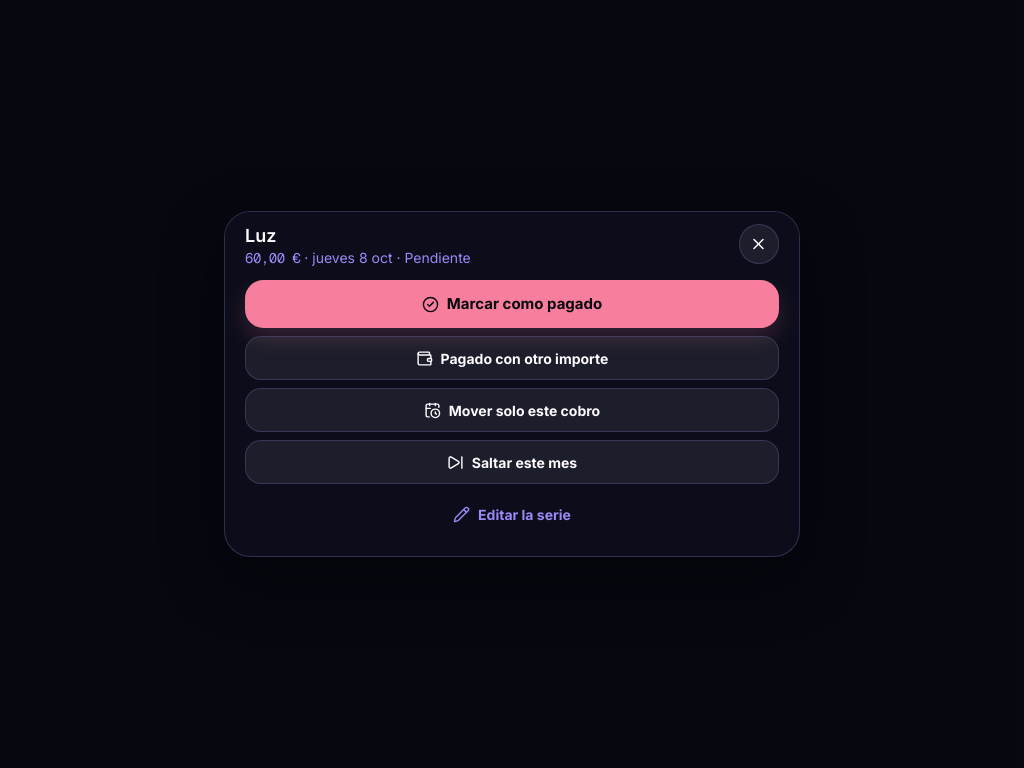
Scenario: OccurrenceActionSheet paying another amount › suggests the average of the last payments
Click the button "Pagado con otro importe".
click(512, 358)  # box left=245, top=336, right=779, bottom=380
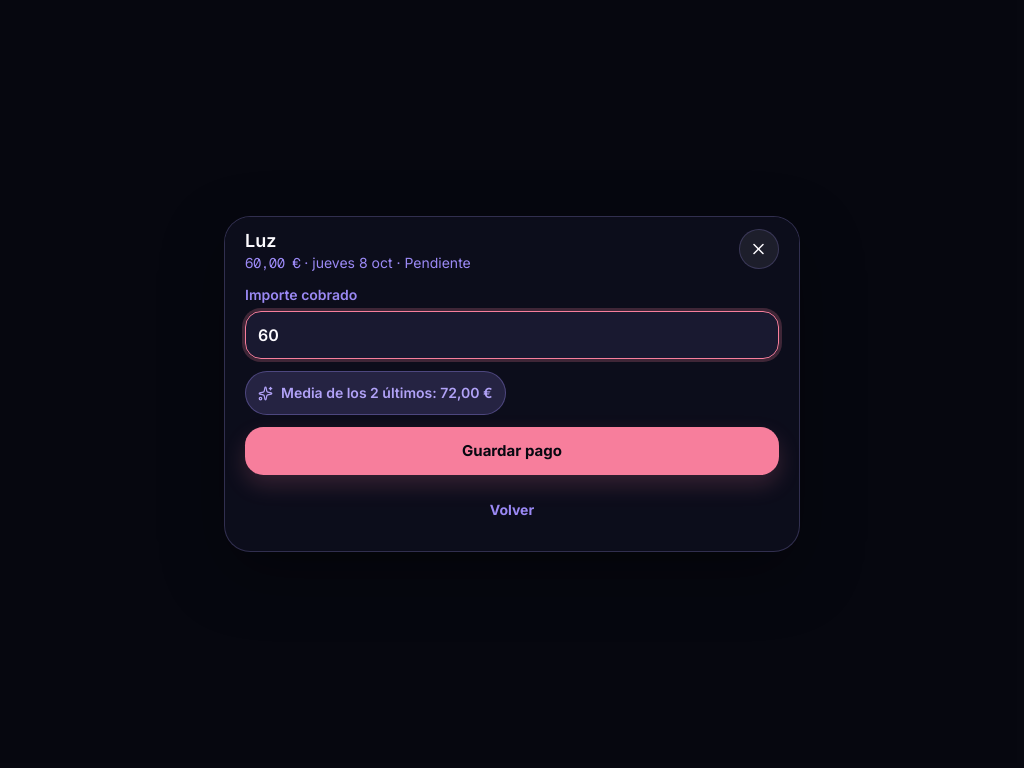
Click the button "Media de los 2 últimos: 72,00 €".
click(375, 393)  # box left=245, top=371, right=506, bottom=415
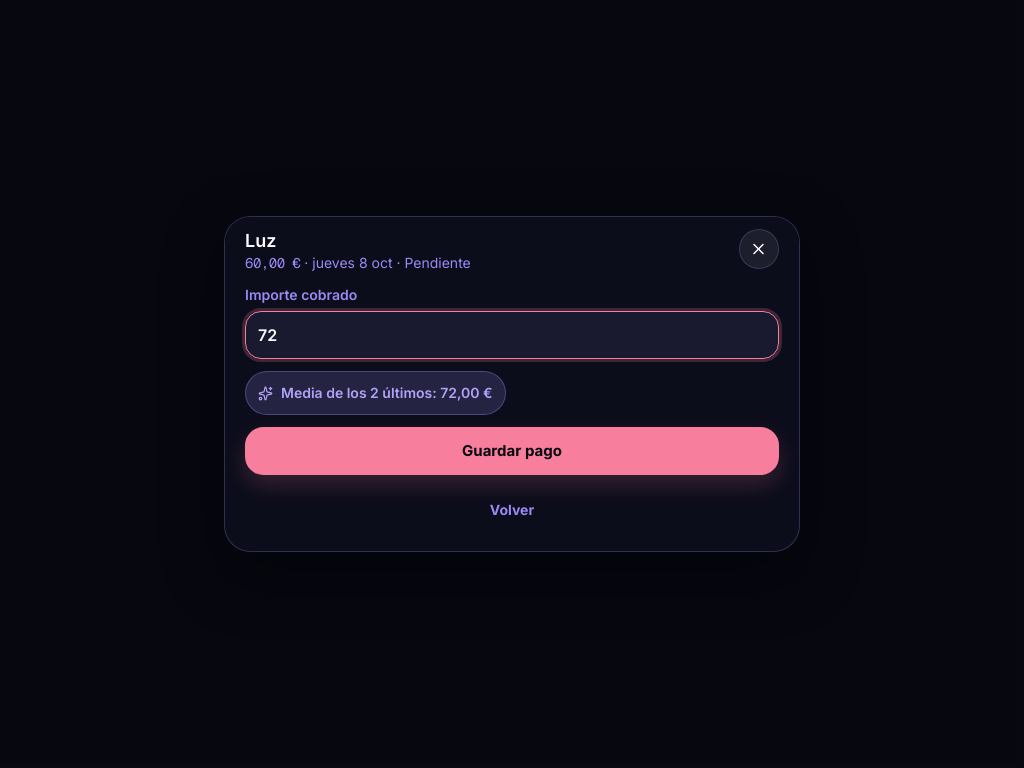
Expected: the field labelled "Importe cobrado" holds "72", left=245, top=311, right=779, bottom=359
